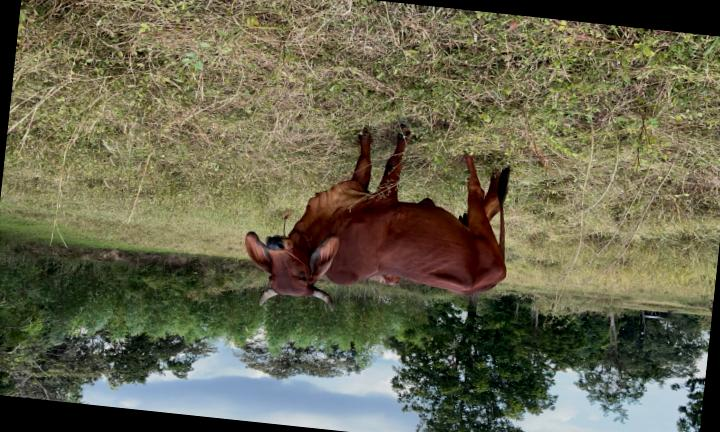Brahman: (245, 125, 510, 307)
